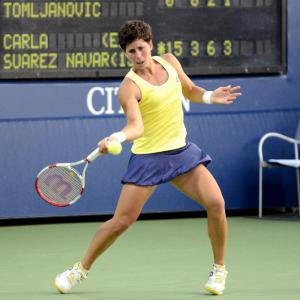TennisBall: (108, 141, 122, 155)
